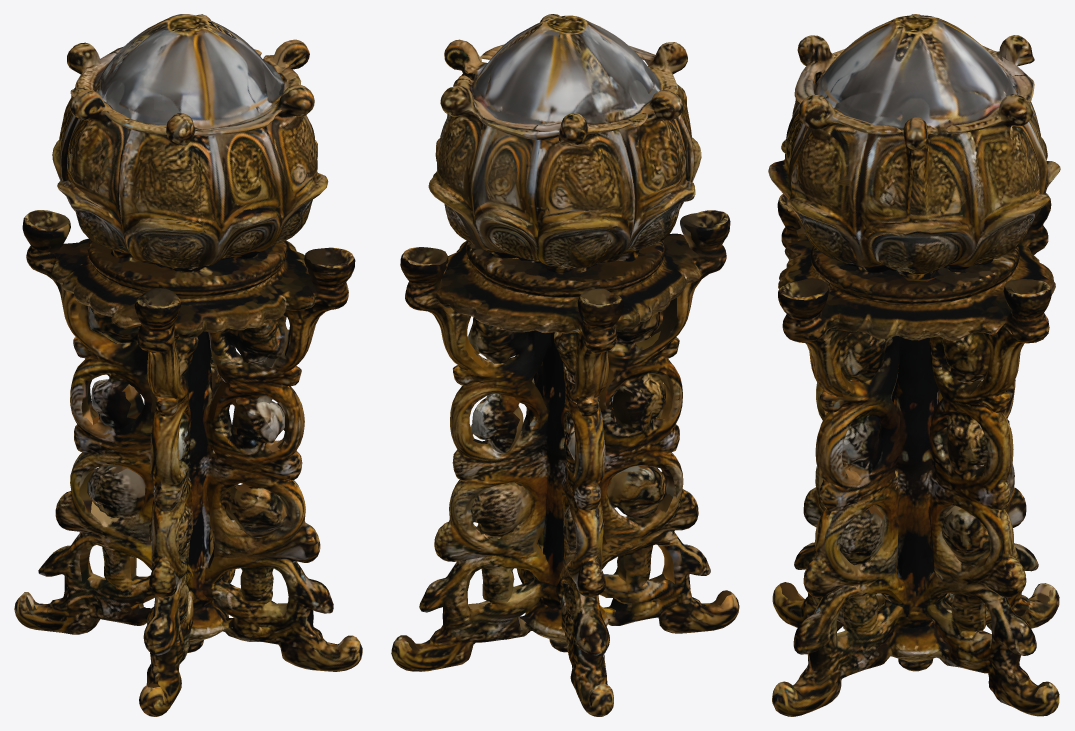
The picture shows the model from 3 angles, left to right: view 1: azimuth 30°, elevation 25°; view 2: azimuth 150°, elevation 25°; view 3: azimuth 270°, elevation 25°; orthographic projection. The views are drawn at different scales.
Parts seen in each view (by area): view 1: textured_mesh; view 2: textured_mesh; view 3: textured_mesh.
Boxes of the visible parts, <box> form: textured_mesh: <box>14,14,362,716</box>; textured_mesh: <box>391,14,739,716</box>; textured_mesh: <box>768,14,1060,716</box>.
Bounding box in the file's own units: 0.8134 × 1.99 × 0.8145.
1 material, 1 textured.
